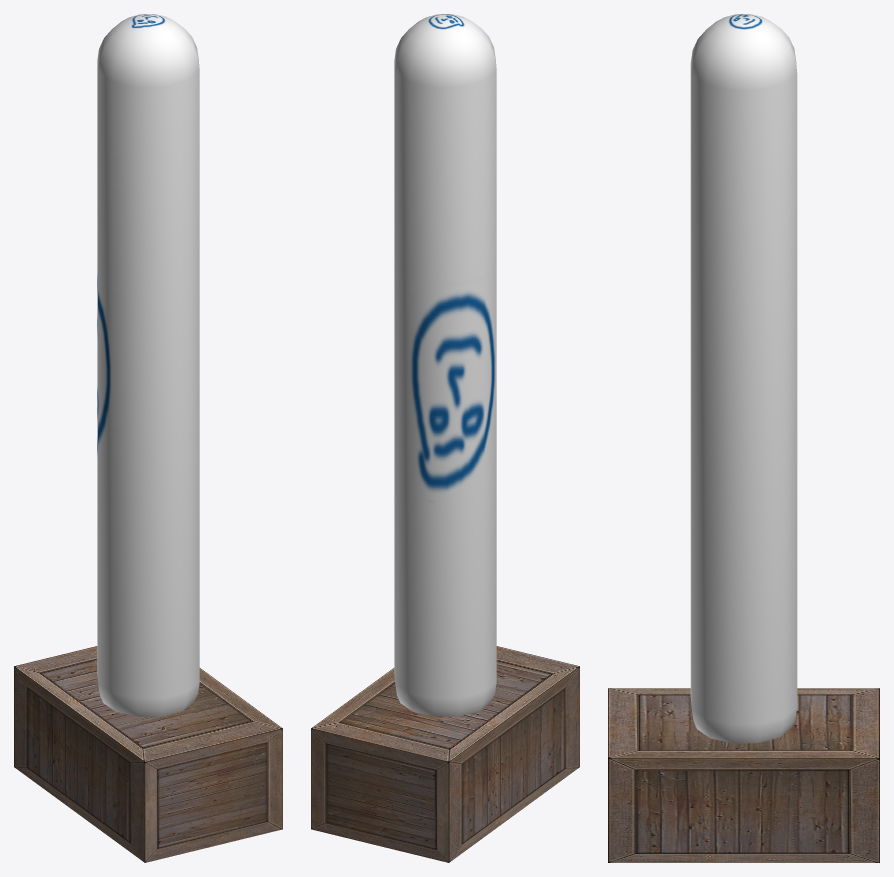
File: cartpole.fbx
3 views of the same model, side by side, from view 1: azimuth 30°, elevation 25°; view 2: azimuth 150°, elevation 25°; view 3: azimuth 270°, elevation 25° (orthographic). The views are drawn at different scales.
Parts seen in each view (by area): view 1: pole_capsule, cart_box; view 2: pole_capsule, cart_box; view 3: pole_capsule, cart_box.
Part boxes in pixels (x1,y1,x2,y2): pole_capsule: [97, 14, 199, 716]; cart_box: [14, 646, 282, 862]; pole_capsule: [394, 14, 496, 716]; cart_box: [311, 646, 579, 862]; pole_capsule: [690, 14, 797, 743]; cart_box: [608, 688, 879, 862].
Size of the model in its own units: 14.31 by 23.54 by 77.31.
